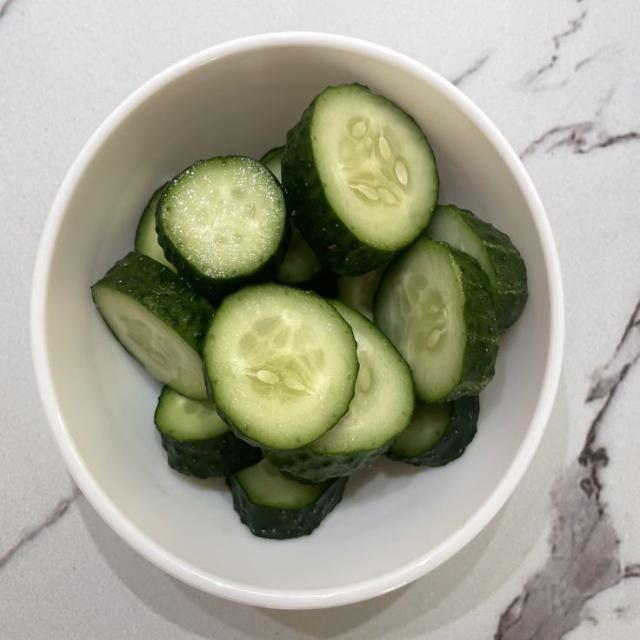cucumber sliced: (282, 84, 438, 274), (267, 302, 413, 482), (203, 284, 358, 449), (375, 238, 498, 402), (157, 156, 287, 300), (92, 253, 213, 398), (427, 205, 527, 332), (154, 386, 261, 478), (227, 460, 346, 539), (387, 397, 479, 466), (135, 183, 176, 271), (277, 224, 320, 284), (338, 268, 383, 319), (260, 147, 283, 181)
